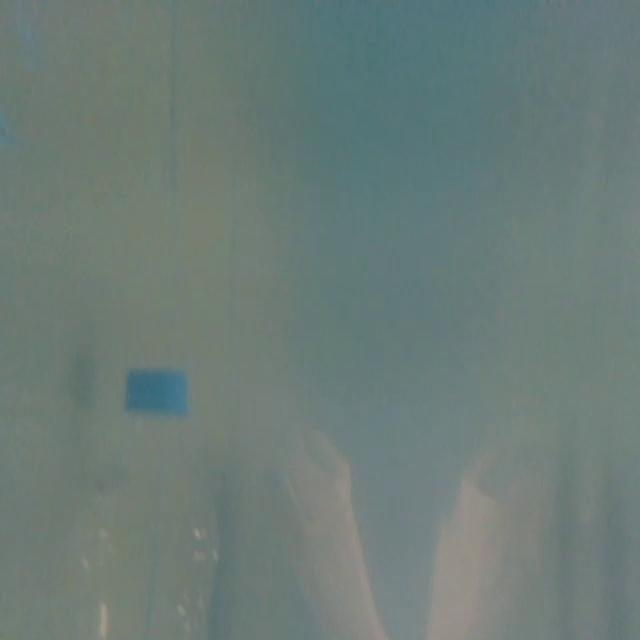plastic bags: (283, 432, 398, 640), (427, 458, 503, 640)
plastic bottle: (71, 366, 225, 640)
